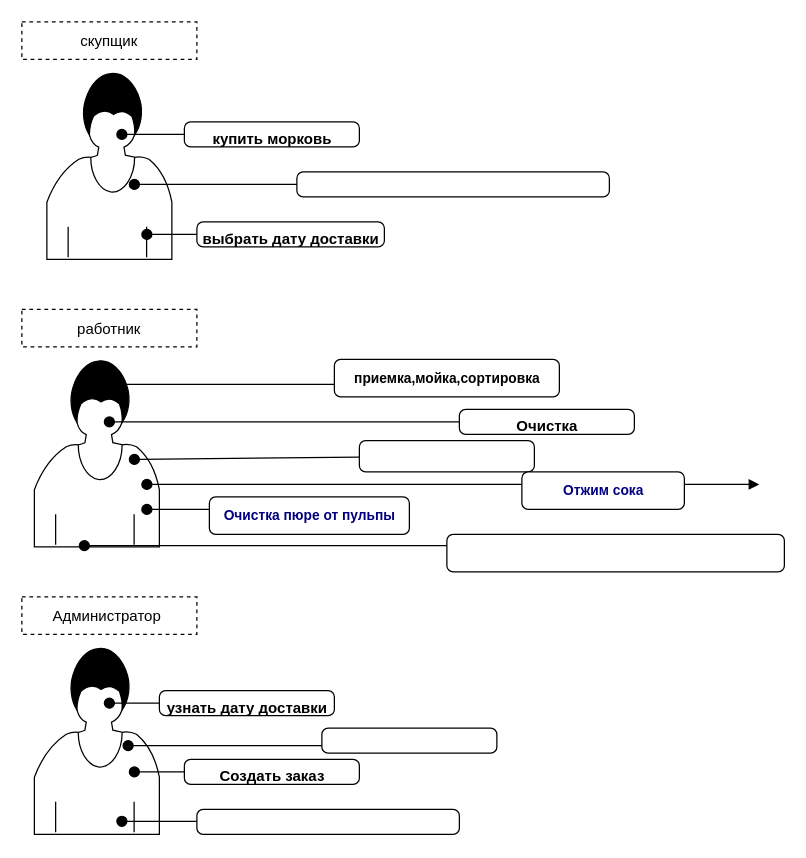
Image size: 806x858. Some labels were removed from this diagram. Each missing label, with the centre of its shape:
Зарегистрировать дату доставки: the point at 327,821
Измельчение: the point at 446,455
консультация: the point at 409,740
Концентрирование: the point at 615,552
работа с бумагами: the point at 452,184
